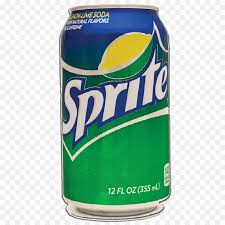can: (60, 5, 173, 220)
